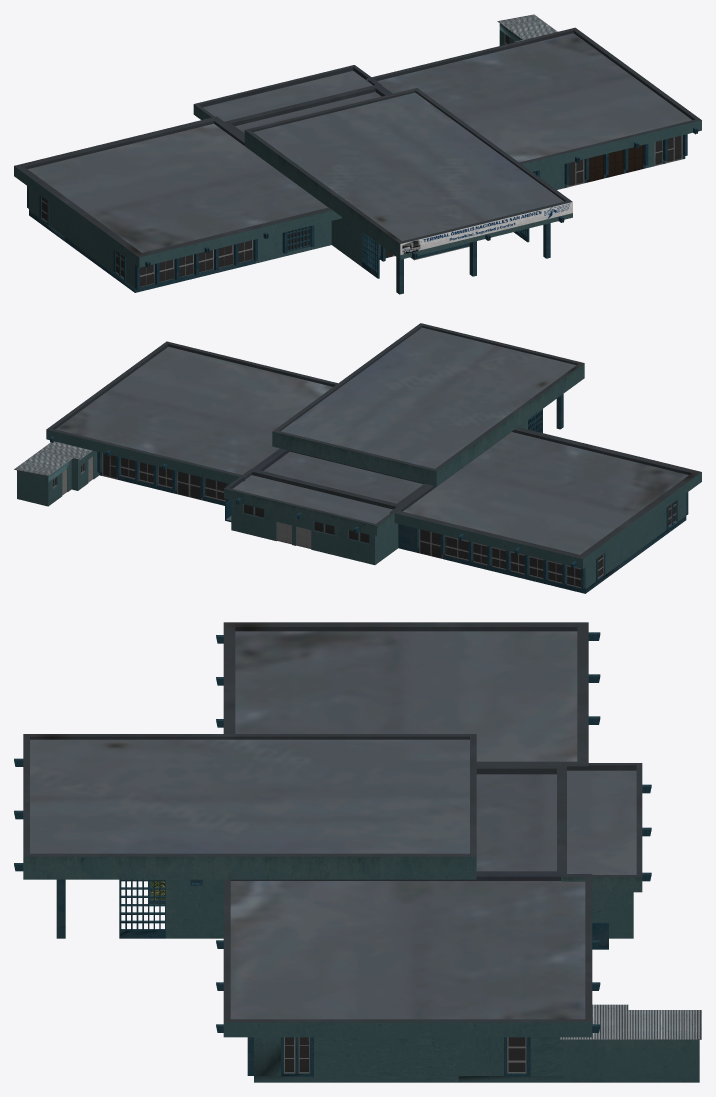
File: BLD_Bus_Terminal_20261006.glb
The picture shows the model from 3 angles, top to bottom: view 1: azimuth 30°, elevation 25°; view 2: azimuth 150°, elevation 25°; view 3: azimuth 270°, elevation 25°; orthographic projection. The views are drawn at different scales.
Parts seen in each view (by area): view 1: BLD_Bus_Terminal_20261006_model_0.obj; view 2: BLD_Bus_Terminal_20261006_model_0.obj; view 3: BLD_Bus_Terminal_20261006_model_0.obj.
Boxes of the visible parts, x1,y1,x2,y2 form: BLD_Bus_Terminal_20261006_model_0.obj: (14, 14, 701, 294); BLD_Bus_Terminal_20261006_model_0.obj: (14, 323, 701, 593); BLD_Bus_Terminal_20261006_model_0.obj: (14, 622, 701, 1082).
Bounding box in the file's own units: 52 × 5.45 × 37.8.
1 material, 1 textured.
